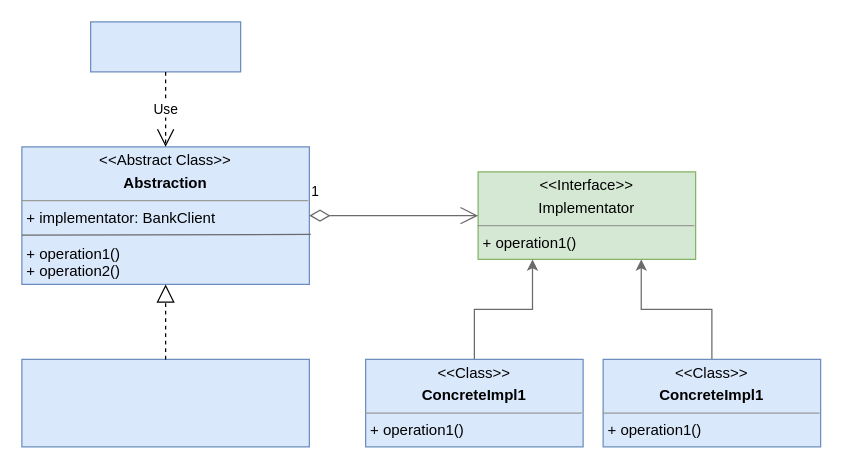
This 843x469 diagram has some shape labels left out. Here are the shapes that lost their labels. From the top down, the centre of each, then its label:
At pixel 165 46: "<<Class>> Client".
At pixel 165 402: "<<Class>> RefinedAbstraction ...".
